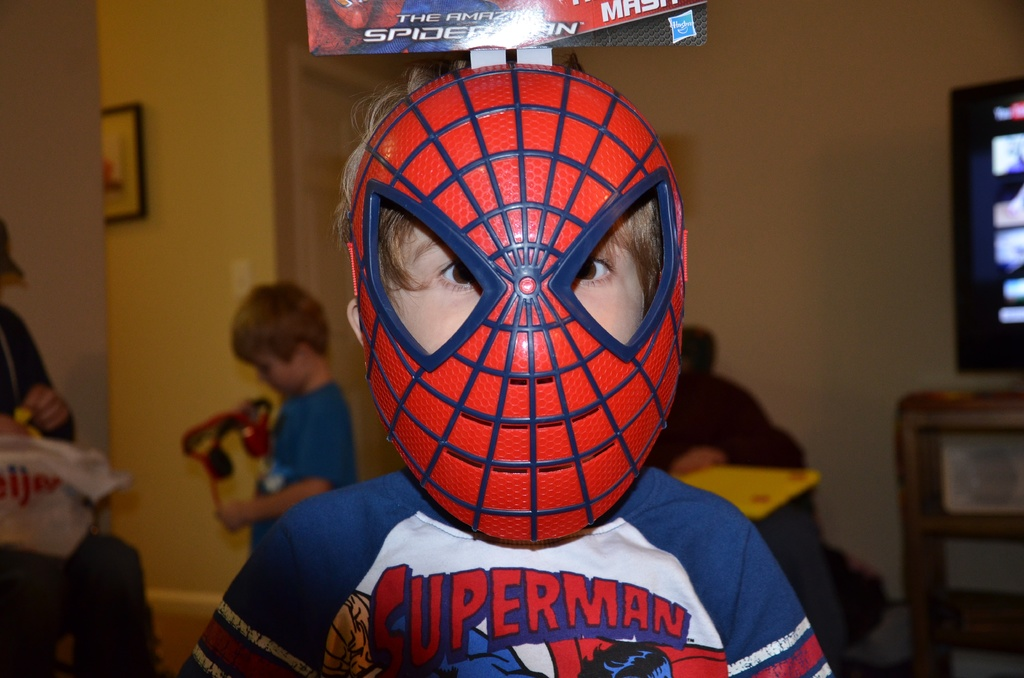Person: (181, 282, 359, 558)
